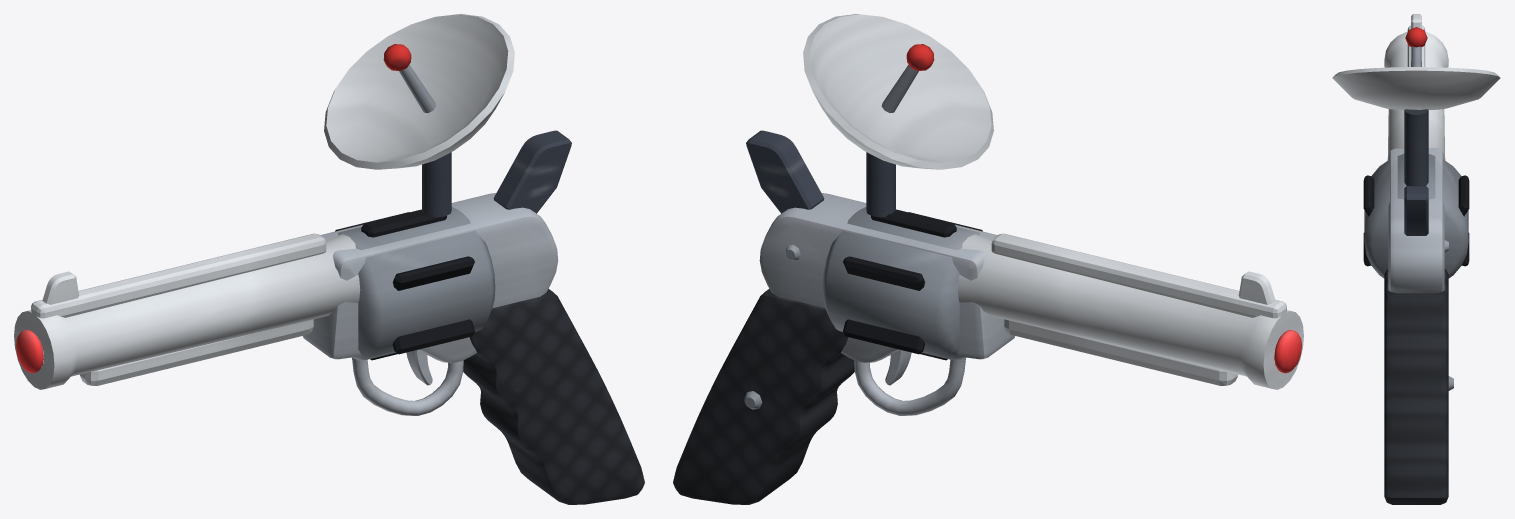
The model's file is OrbitalLaser.fbx.
3 views of the same model, side by side, from view 1: azimuth 30°, elevation 25°; view 2: azimuth 150°, elevation 25°; view 3: azimuth 270°, elevation 25° (orthographic). The views are drawn at different scales.
Visible parts, largest first — view 1: OrbitalLaser; view 2: OrbitalLaser; view 3: OrbitalLaser.
Part boxes in pixels (<box>): OrbitalLaser: <box>14,14,644,504</box>; OrbitalLaser: <box>673,14,1303,504</box>; OrbitalLaser: <box>1332,14,1500,504</box>.
Bounding box in the file's own units: 0.6941 × 0.5388 × 0.21.
Materials: 9 (9 with a texture image).
